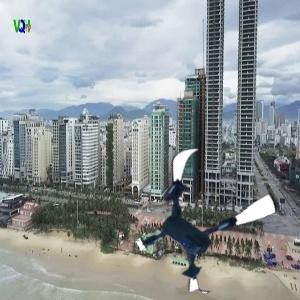drone: (134, 147, 278, 291)
